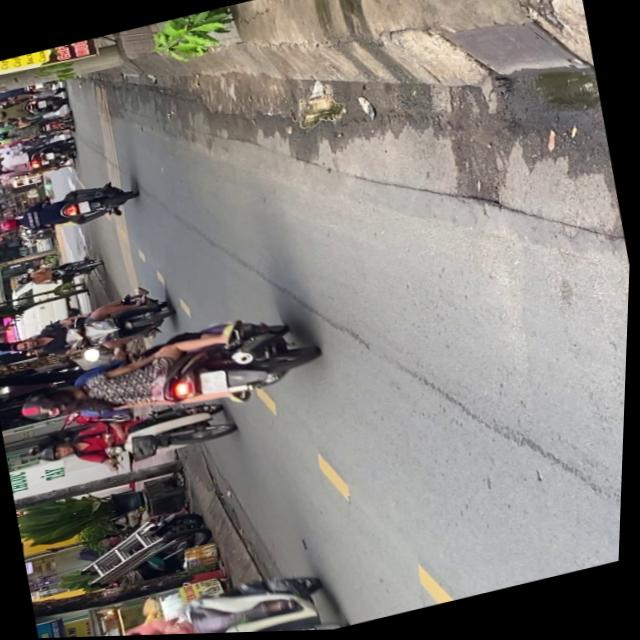helmet: (20, 389, 73, 424), (20, 394, 58, 424), (40, 441, 80, 467), (0, 217, 22, 234)
licenseplate: (9, 303, 326, 454), (68, 557, 354, 638), (35, 392, 241, 489), (5, 285, 180, 372), (0, 177, 139, 246)
motorcyclist: (34, 383, 85, 417), (11, 335, 46, 356)
nohelmet: (200, 370, 229, 398), (77, 201, 91, 215)
